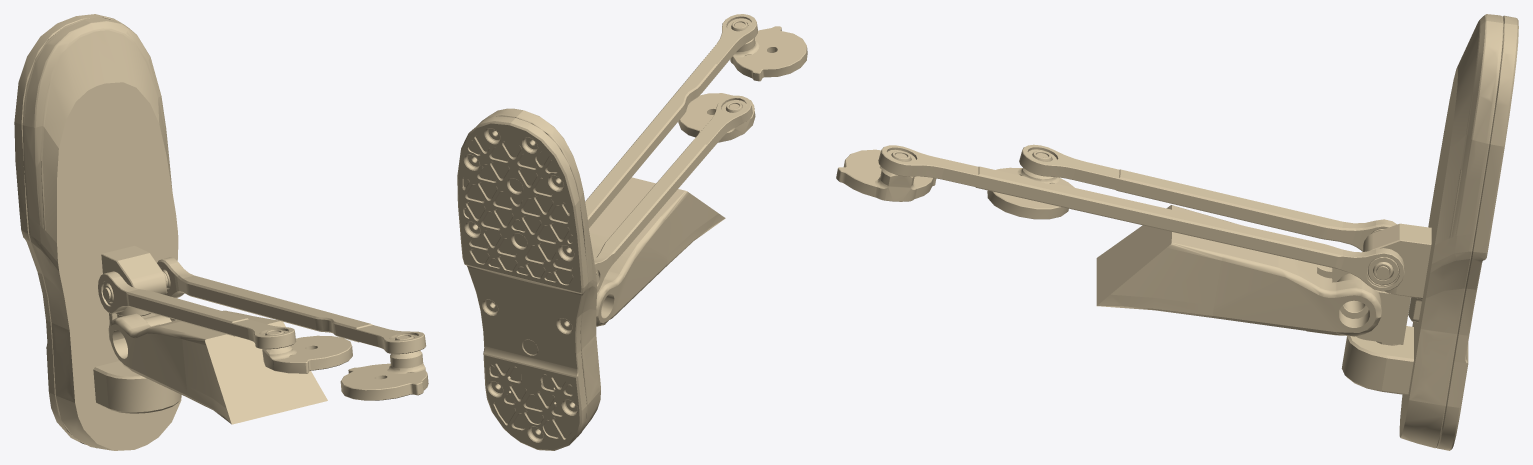
The model's file is g1-ankle-parallel.glb.
The picture shows the model from 3 angles, left to right: view 1: azimuth 30°, elevation 25°; view 2: azimuth 150°, elevation 25°; view 3: azimuth 270°, elevation 25°; orthographic projection. The views are drawn at different scales.
Parts seen in each view (by area): view 1: unnamed (×6); view 2: unnamed (×6); view 3: unnamed (×7).
Boxes of the visible parts, x1,y1,x2,y2 form: unnamed (×6): (14,14,428,450); unnamed (×6): (457,14,807,450); unnamed (×7): (836,14,1518,450).
Size of the model in its own units: 0.0754 by 0.208 by 0.3038.
